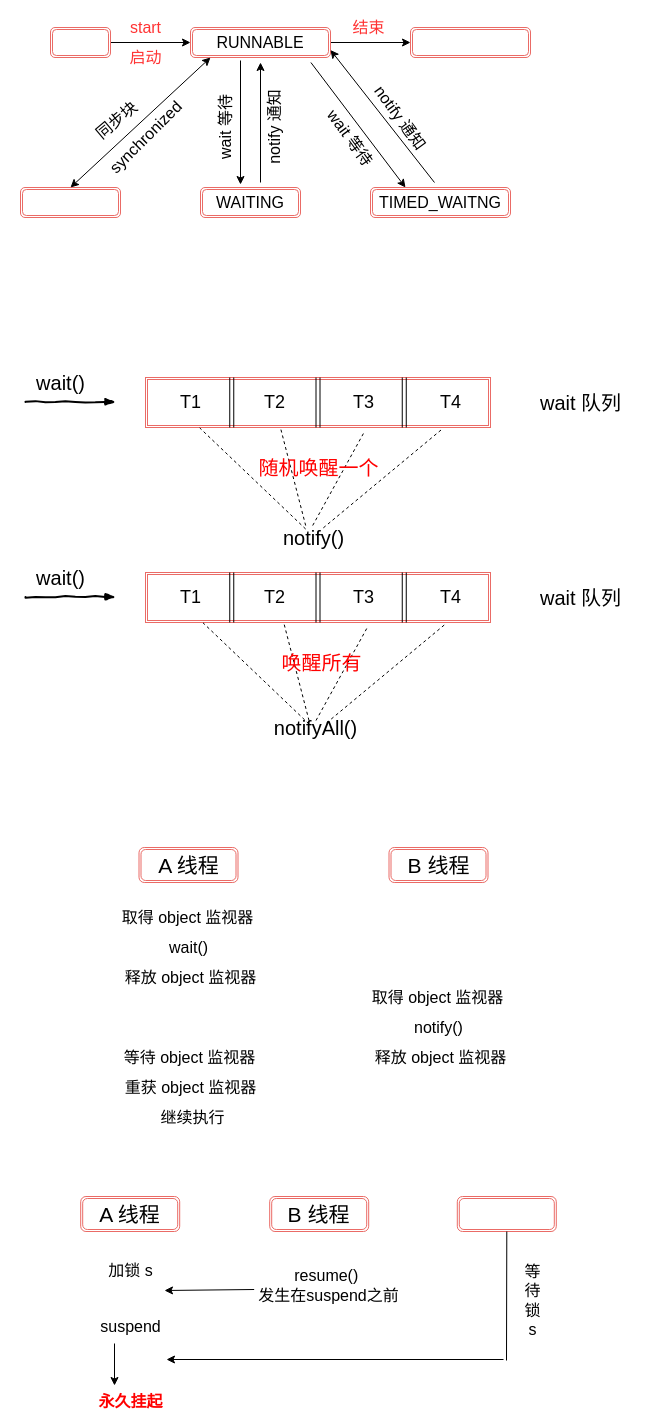
This 647x1427 diagram has some shape labels left out. The centre of each missing label's shape, as x and y in pixels:
BLOCKED: the point at 70,202
C 线程: the point at 506,1214
NEW: the point at 80,42
TERMINATED: the point at 470,42
